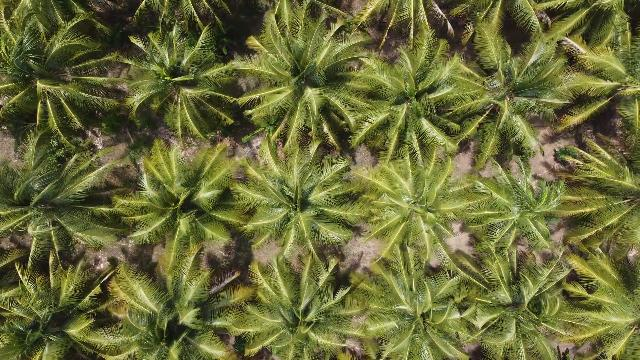trees: (230, 3, 385, 161), (437, 237, 632, 360), (438, 36, 589, 171), (3, 5, 136, 148), (357, 149, 492, 282), (97, 244, 247, 360), (3, 134, 136, 261), (113, 19, 248, 144), (232, 246, 380, 360), (227, 135, 364, 257), (114, 140, 249, 254), (446, 161, 582, 274), (2, 246, 126, 360), (450, 2, 547, 66), (132, 3, 234, 56), (555, 35, 637, 91)
